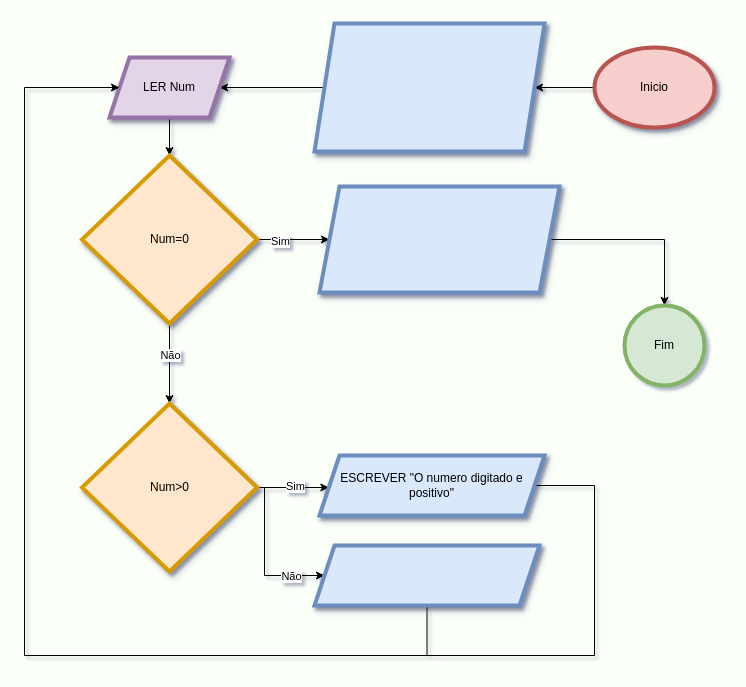
This 746x687 diagram has some shape labels left out. The shapes that lost their labels are listed below. From the top down, each one's centre as x and y in pixels, then its label:
(x=430, y=88): ESCREVER "Qual numero queres determinar se e negativo ou positivo?"
(x=440, y=240): ESCREVER “Digitou 0 - vai sair do programa”
(x=427, y=576): ESCREVER "O numero digitado e negativo"
